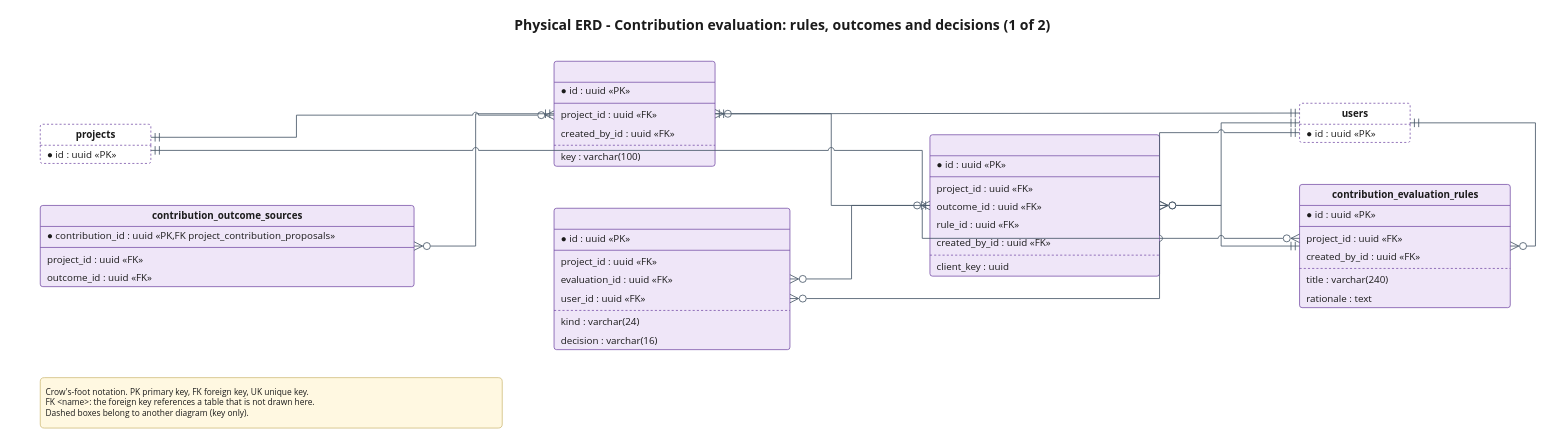
This 1564x440 diagram has some shape labels left out. The shapes that lost their labels are listed below. From the top down, each one's box as (x1, y1, x2, y2) in pixels, then its label:
(553, 61, 715, 166): contribution_outcomes
(929, 134, 1160, 276): contribution_outcome_evaluations
(553, 208, 790, 350): contribution_evaluation_decisions
